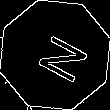N_NW: (24, 25, 86, 85)
